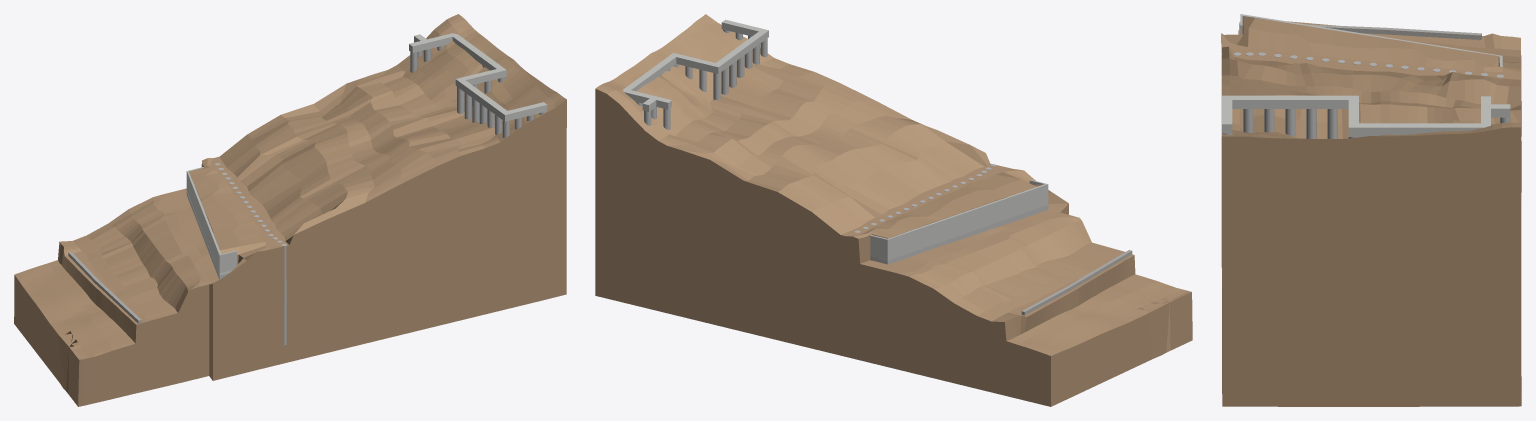
File: spw1.glb
3 views of the same model, side by side, from view 1: azimuth 30°, elevation 25°; view 2: azimuth 150°, elevation 25°; view 3: azimuth 270°, elevation 25° (orthographic). The views are drawn at different scales.
Parts seen in each view (by area): view 1: Terrain 01 - NGL.Stage02.001, RTW1.001, CB2-RL13.50.007, CB2-RL13.50.009, Cube.020; view 2: Terrain 01 - NGL.Stage02.001, RTW1.001, Cube, Cube.020, CB2-RL13.50.007, CB2-RL13.50.009; view 3: Terrain 01 - NGL.Stage02.001, CB2-RL13.50.007, CB2-RL13.50.009, Cube.020, RTW1.001, CB2-RL13.50.012, Cylinder.160, Cylinder.186, CB2-RL13.50.008, Cylinder.187, CB2-RL13.50.011, CB2-RL13.50.010.
Part boxes in pixels (x1,y1,x2,y2): Terrain 01 - NGL.Stage02.001: (14,14,566,406); RTW1.001: (186,167,236,275); CB2-RL13.50.007: (455,79,510,121); CB2-RL13.50.009: (449,33,506,77); Cube.020: (68,252,141,323); Terrain 01 - NGL.Stage02.001: (595,14,1192,406); RTW1.001: (870,180,1048,259); Cube: (870,205,1048,264); Cube.020: (1021,250,1132,315); CB2-RL13.50.007: (712,29,768,73); CB2-RL13.50.009: (623,53,678,91); Terrain 01 - NGL.Stage02.001: (1221,16,1521,406); CB2-RL13.50.007: (1222,95,1358,108); CB2-RL13.50.009: (1348,123,1490,136); Cube.020: (1239,22,1481,39); RTW1.001: (1240,14,1502,66); CB2-RL13.50.012: (1222,96,1232,133); Cylinder.160: (1327,109,1337,138); Cylinder.186: (1306,109,1316,138); CB2-RL13.50.008: (1348,96,1358,127); Cylinder.187: (1285,109,1295,136); CB2-RL13.50.011: (1486,104,1510,117); CB2-RL13.50.010: (1481,96,1490,128).
Size of the model in its own units: 45.8 by 18.31 by 17.83.
